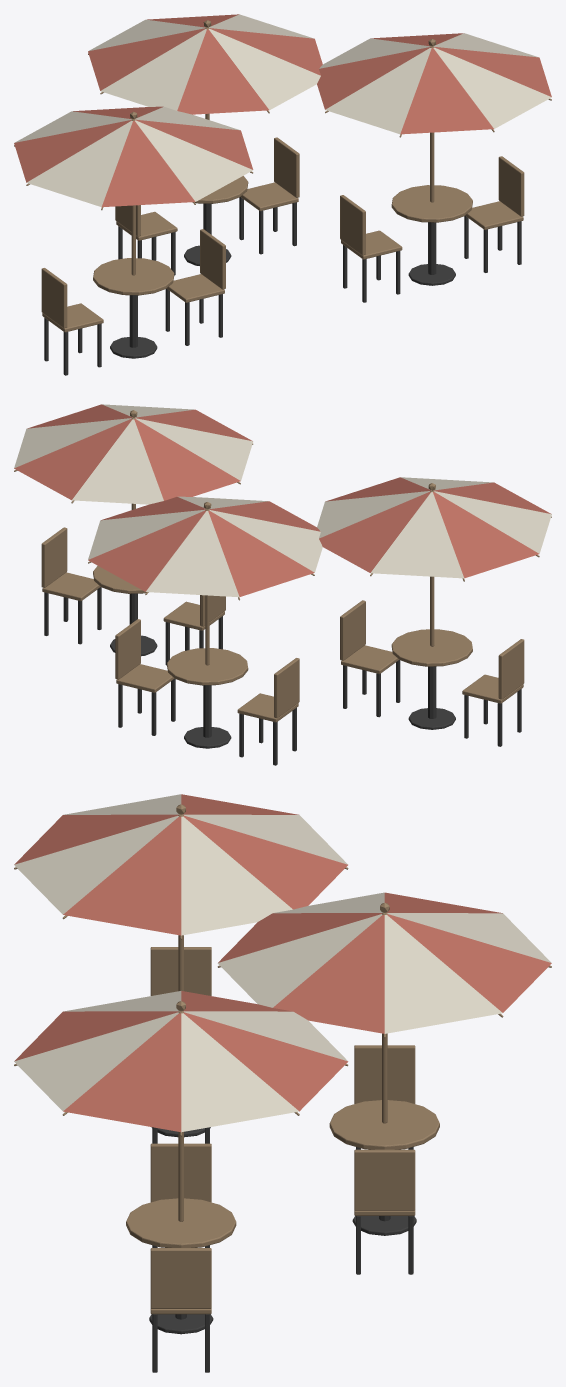
The model's file is CafeTerrace.fbx.
3 renders of one model, top to bottom at view 1: azimuth 30°, elevation 25°; view 2: azimuth 150°, elevation 25°; view 3: azimuth 270°, elevation 25°, orthographic. The views are drawn at different scales.
Visible parts, largest first — view 1: CafeTerrace; view 2: CafeTerrace; view 3: CafeTerrace.
Part boxes in pixels (x1,y1,x2,y2): CafeTerrace: (14,14,551,375); CafeTerrace: (14,404,551,765); CafeTerrace: (14,794,551,1372).
Size of the model in its own units: 5.5 by 2.43 by 3.7.
